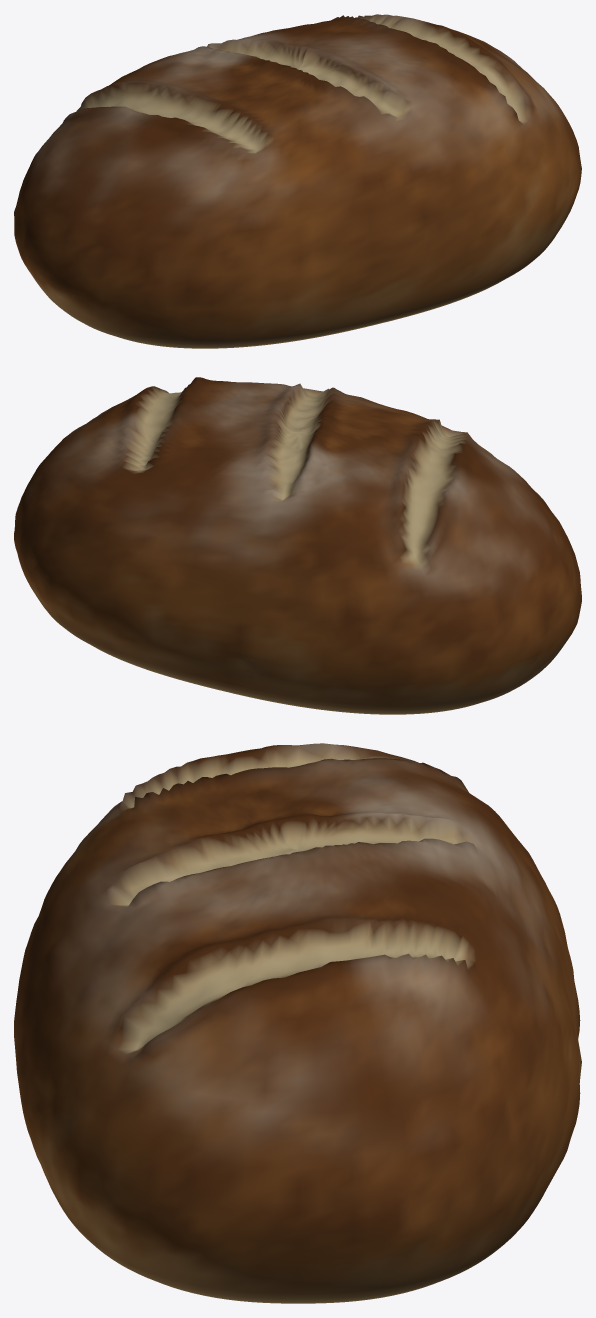
File: mischbrot-500g.glb
3 renders of one model, top to bottom at view 1: azimuth 30°, elevation 25°; view 2: azimuth 150°, elevation 25°; view 3: azimuth 270°, elevation 25°, orthographic. The views are drawn at different scales.
Parts seen in each view (by area): view 1: mischbrot-500g; view 2: mischbrot-500g; view 3: mischbrot-500g.
Boxes of the visible parts, x1=… form: mischbrot-500g: x1=14, y1=14, x2=581, y2=348; mischbrot-500g: x1=14, y1=377, x2=581, y2=714; mischbrot-500g: x1=14, y1=743, x2=581, y2=1303.
Bounding box in the file's own units: 0.22 × 0.085 × 0.14.
